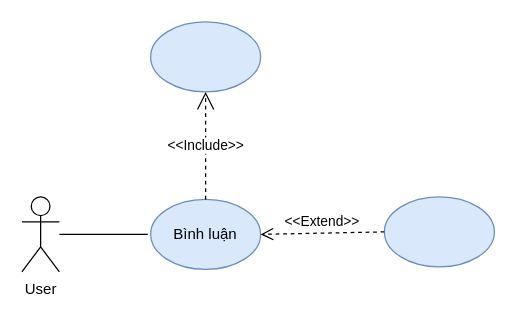
Image size: 516x320. Some labels were removed from this diagram. Here are the shapes that lost their labels. From the top down, the centre of each, then its label:
At [205,56]: "Đăng nhập".
At [438,231]: "Đánh giá sao, bình luận".
